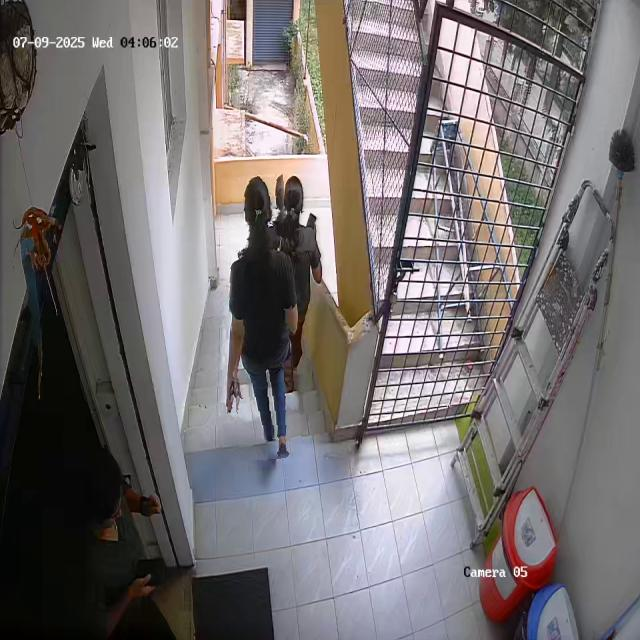person: (225, 175, 298, 460)
